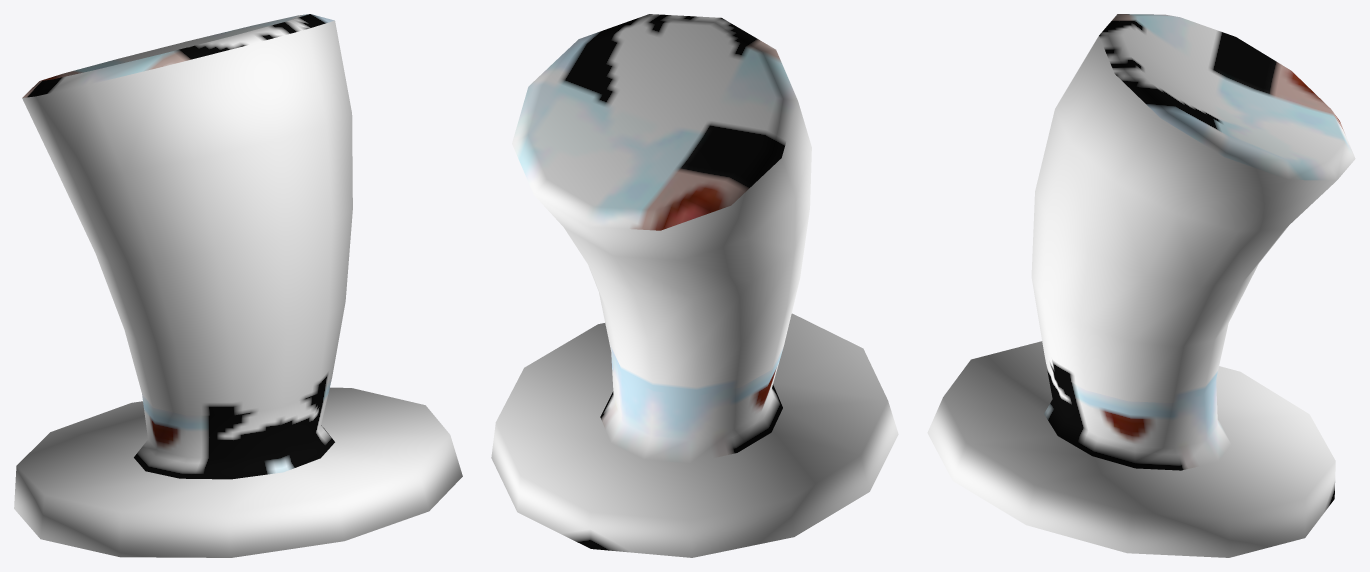
The model's file is static.ico.obj.
3 renders of one model, left to right at view 1: azimuth 30°, elevation 25°; view 2: azimuth 150°, elevation 25°; view 3: azimuth 270°, elevation 25°, orthographic. The views are drawn at different scales.
Bounding box in the file's own units: 3.59 × 4.35 × 3.7.
